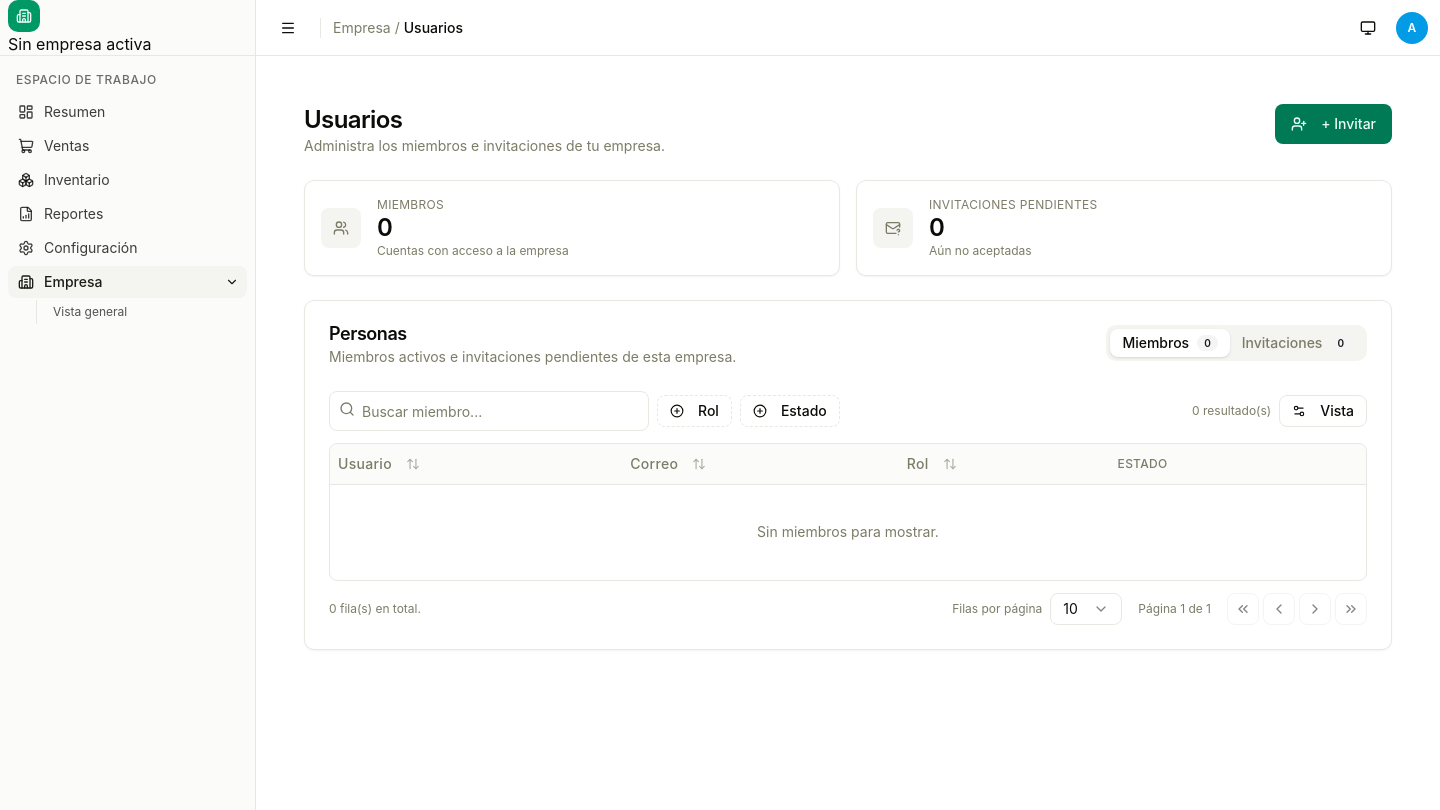
EmpresaUsuariosRoute › hides the + Invitar button when members:invite is false; shows + opens when true
The image size is (1440, 810).
Click the button "+ Invitar": (1334, 124) 1275,104 -> 1392,144
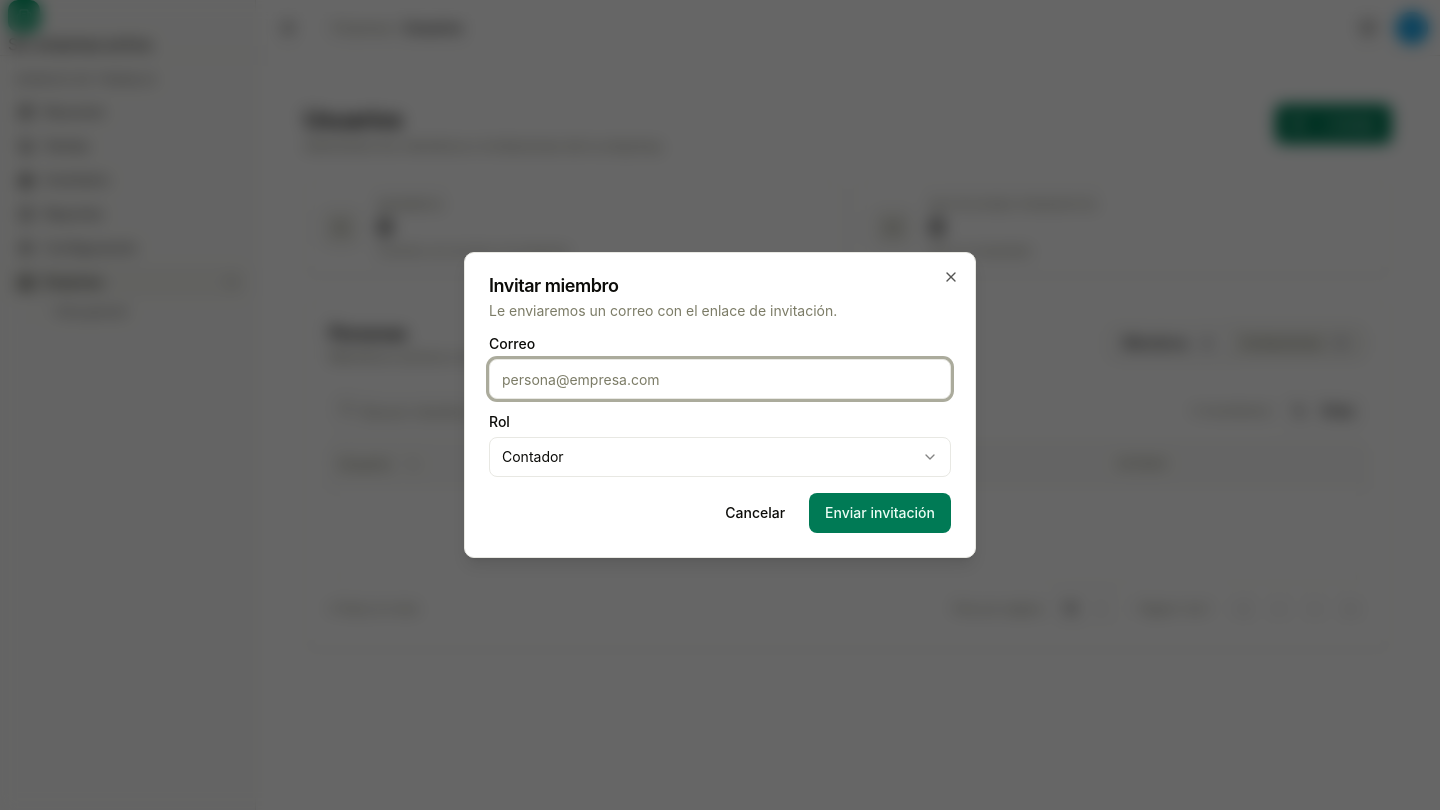
expect the heading "Invitar miembro" is shown: met, box 489,275 -> 618,296
